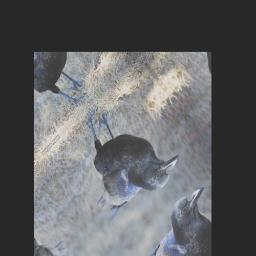Crow: (53, 79, 185, 236)
